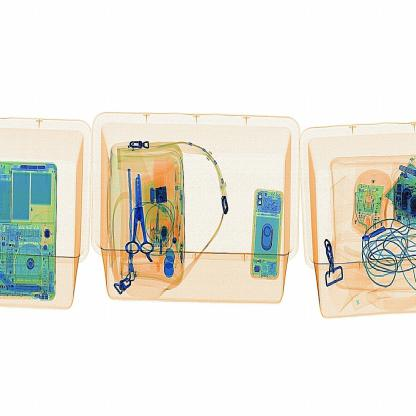gun: (120, 168, 150, 269)
